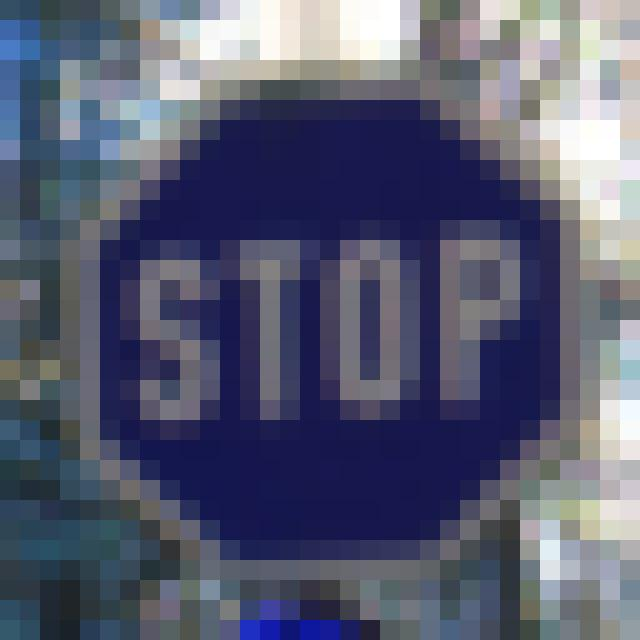STOP: (102, 84, 568, 557)
